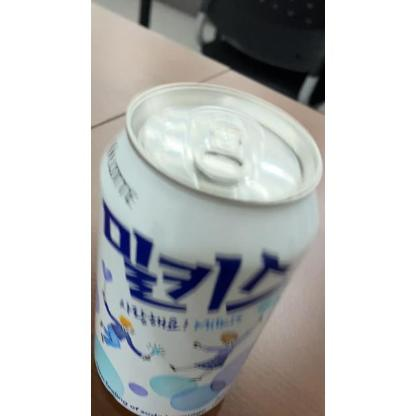Can: (91, 80, 325, 416)
